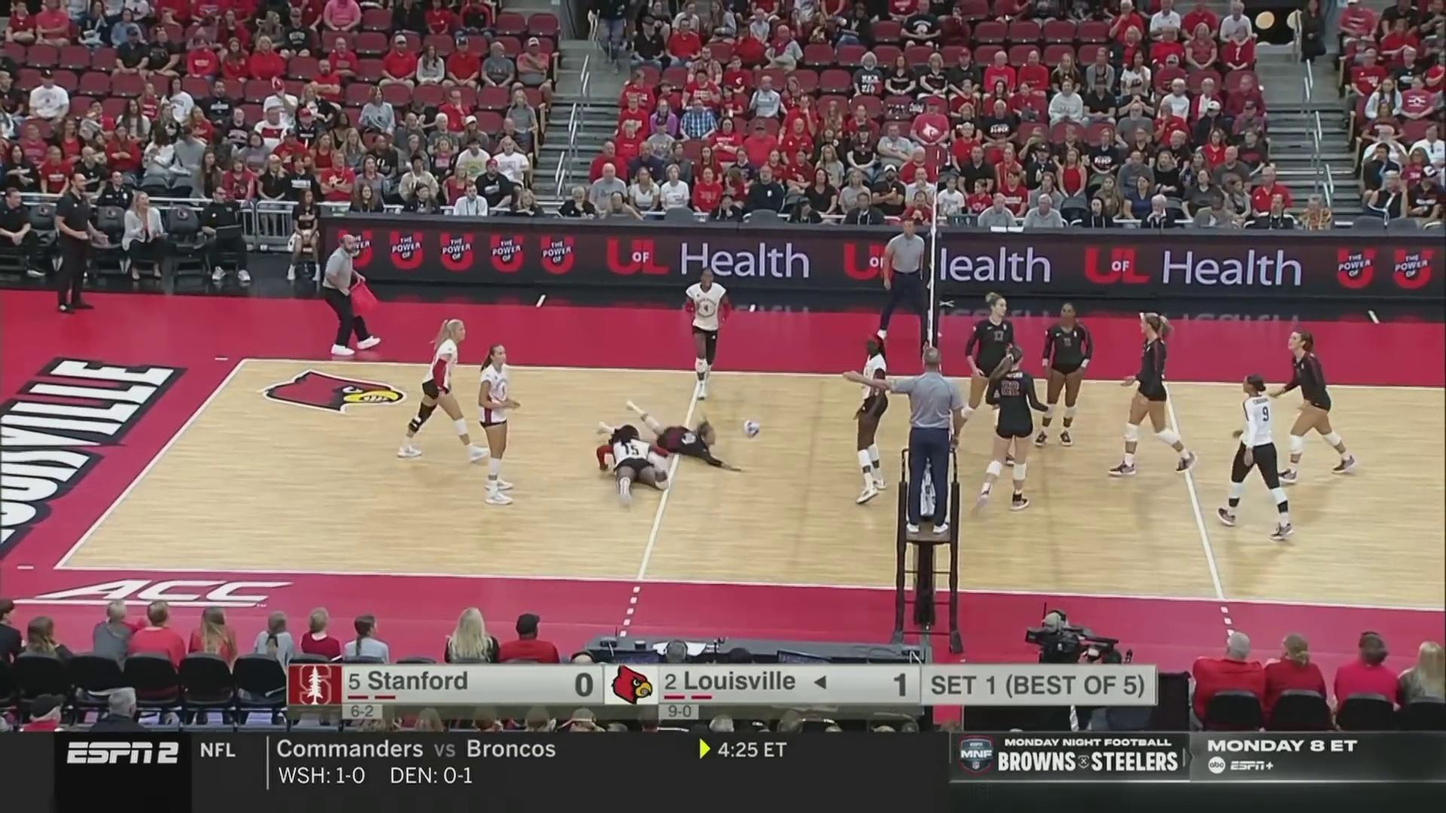player: (944, 292, 1025, 465), (1111, 313, 1196, 475), (973, 345, 1055, 509), (1271, 331, 1356, 481), (396, 320, 489, 457), (1221, 374, 1293, 536), (597, 398, 745, 471), (1036, 301, 1093, 446), (848, 334, 891, 501), (479, 344, 523, 505), (684, 268, 731, 396), (598, 424, 672, 504)
refree: (875, 350, 967, 532), (319, 233, 383, 356), (880, 220, 943, 339)
